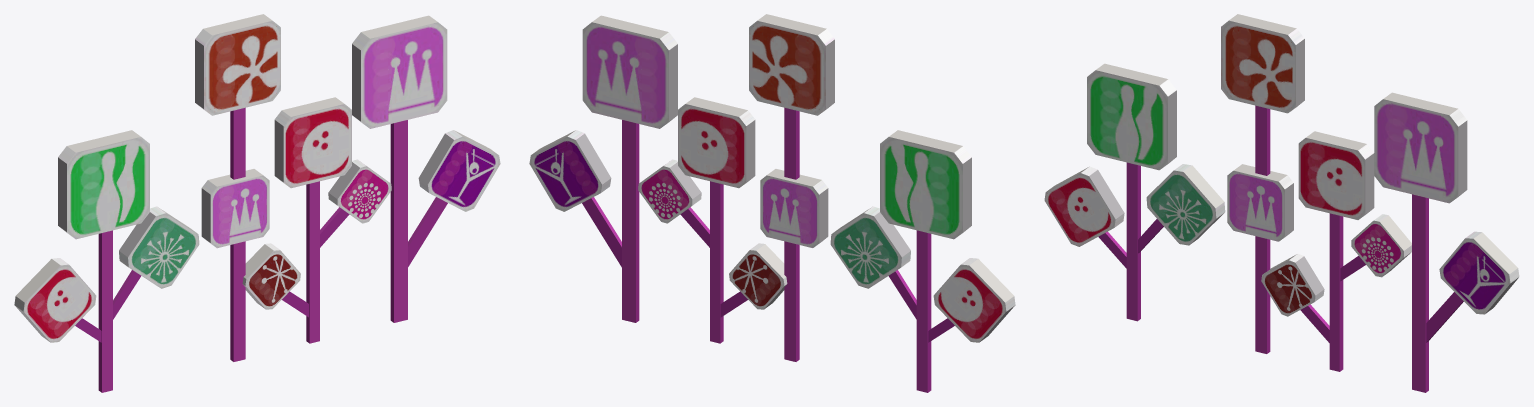
The model's file is furni_0200138_01.FBX.
3 renders of one model, left to right at view 1: azimuth 30°, elevation 25°; view 2: azimuth 150°, elevation 25°; view 3: azimuth 330°, elevation 25°, orthographic. The views are drawn at different scales.
Parts seen in each view (by area): view 1: furni_0200138_01; view 2: furni_0200138_01; view 3: furni_0200138_01.
Boxes of the visible parts, x1=… form: furni_0200138_01: x1=14, y1=14, x2=500, y2=392; furni_0200138_01: x1=529, y1=14, x2=1015, y2=392; furni_0200138_01: x1=1044, y1=14, x2=1519, y2=392.
Bounding box in the file's own units: 78.96 × 52.96 × 2.63.
1 material, 1 textured.
